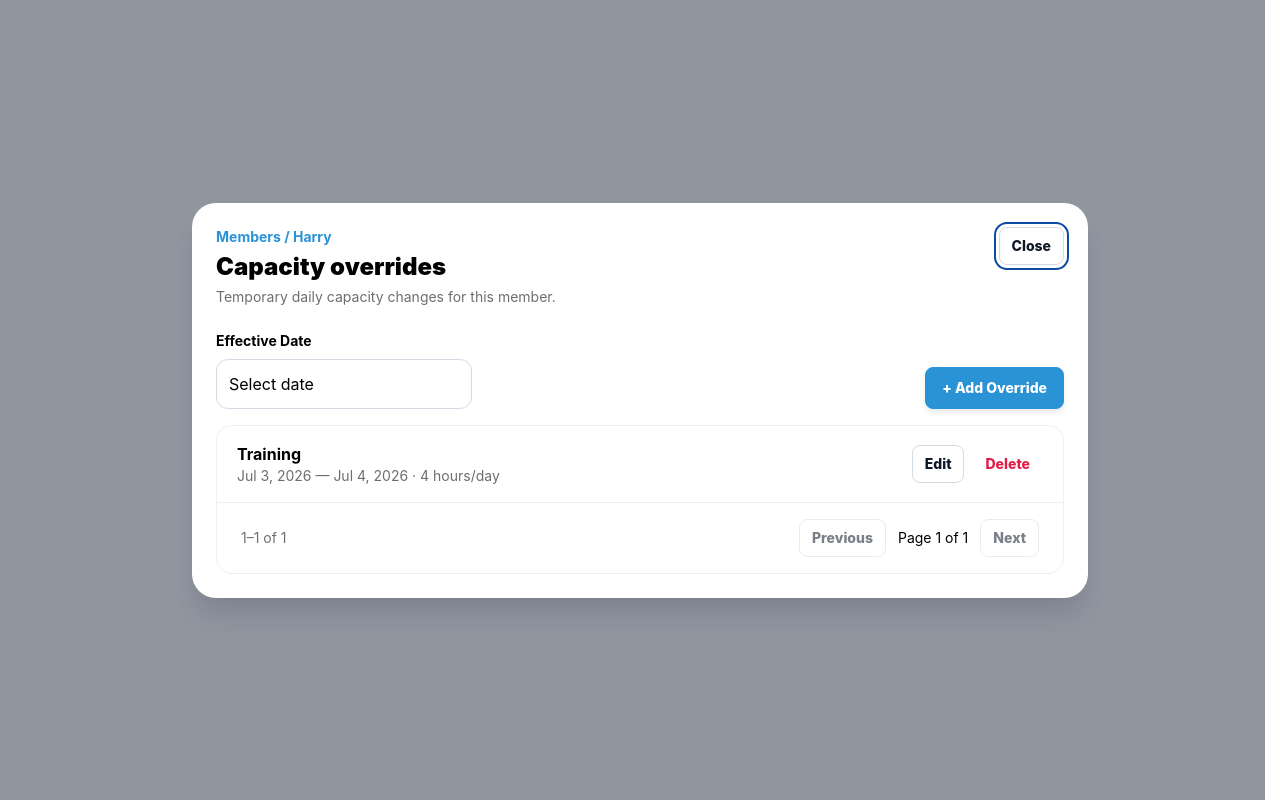
Test case: CapacityOverridesPanel › makes edit mode exclusive and restores the list after cancel
Expected: the text "Training" is shown, [237,444,301,464]
Click the button "Edit" at (938, 464), box [912,444,964,482]
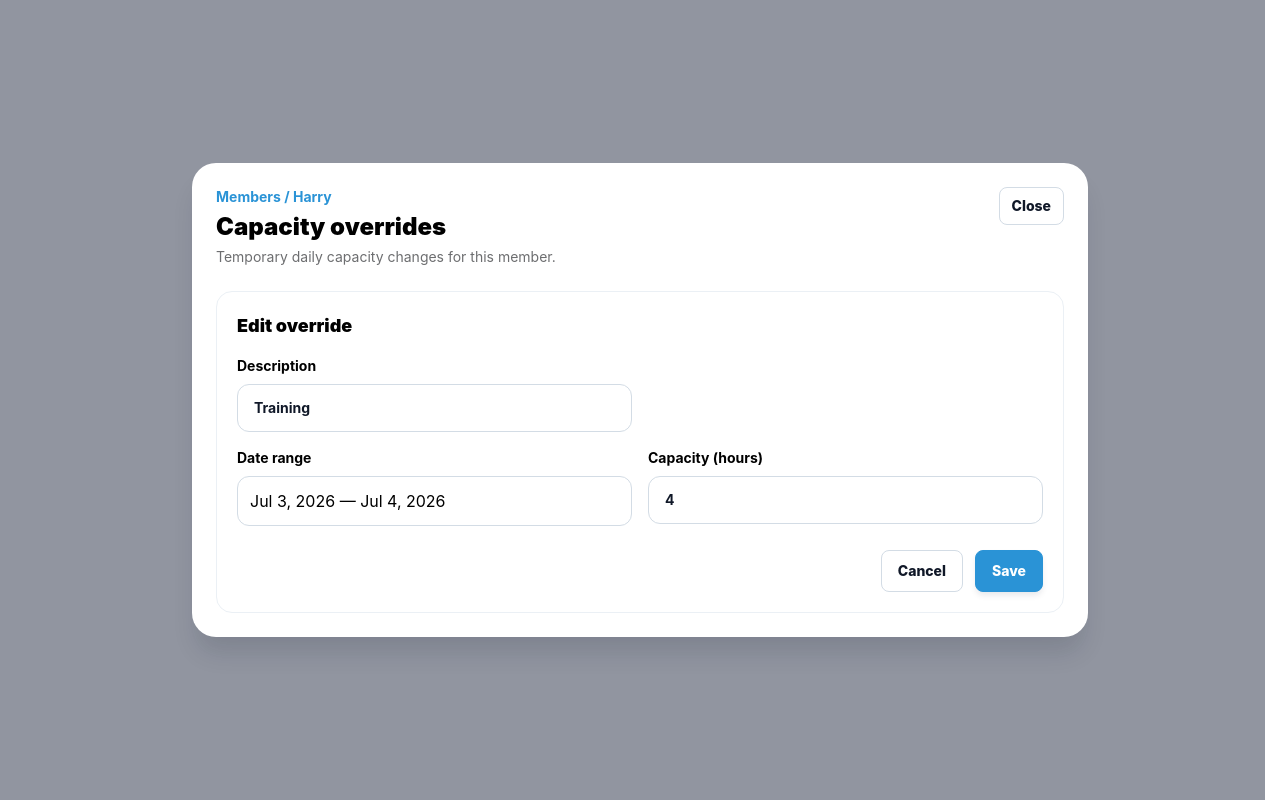
Expected: the heading "Edit override" is shown, [237,315,352,336]
Expected: the text "4 hours/day" is gone
Expected: the text "Effective Date" is gone
Click the button "Cancel" at (922, 571), box [881,550,963,592]
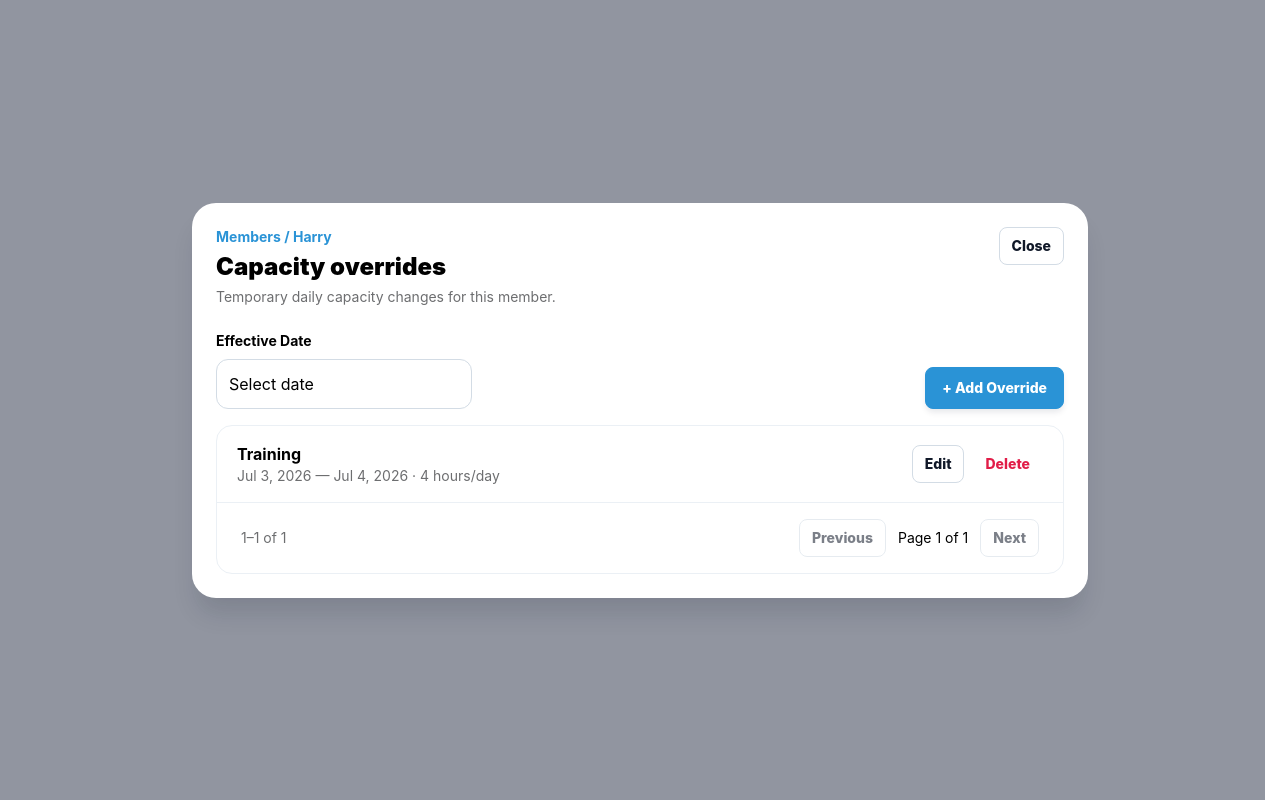
Expected: the text "Jul 3, 2026 — Jul 4, 2026 · 4 hours/day" is shown, [237,466,500,486]
Expected: the text "Effective Date" is shown, [216,332,312,348]
